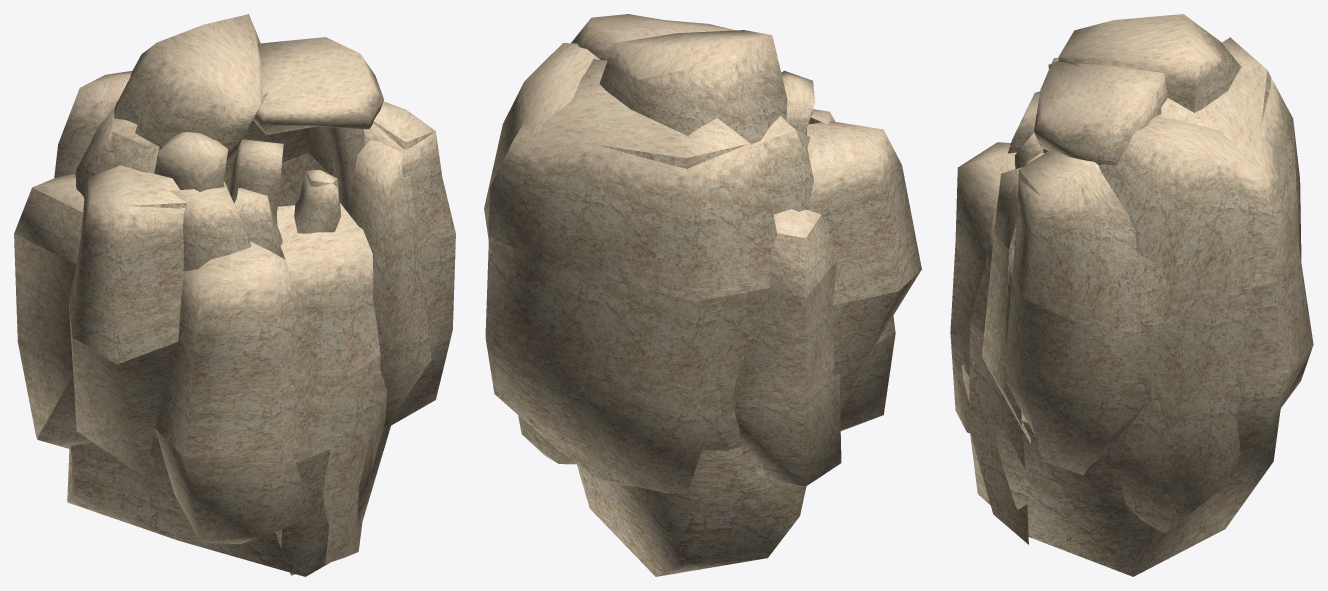
File: poi_all_lair_rancor_light_l2.fbx
3 renders of one model, left to right at view 1: azimuth 30°, elevation 25°; view 2: azimuth 150°, elevation 25°; view 3: azimuth 270°, elevation 25°, orthographic. The views are drawn at different scales.
Parts seen in each view (by area): view 1: mesh_node; view 2: mesh_node; view 3: mesh_node.
Boxes of the visible parts, x1=… form: mesh_node: x1=14, y1=14, x2=455, y2=576; mesh_node: x1=484, y1=14, x2=921, y2=576; mesh_node: x1=950, y1=14, x2=1313, y2=576.
Bounding box in the file's own units: 21.21 × 28.31 × 18.66.
